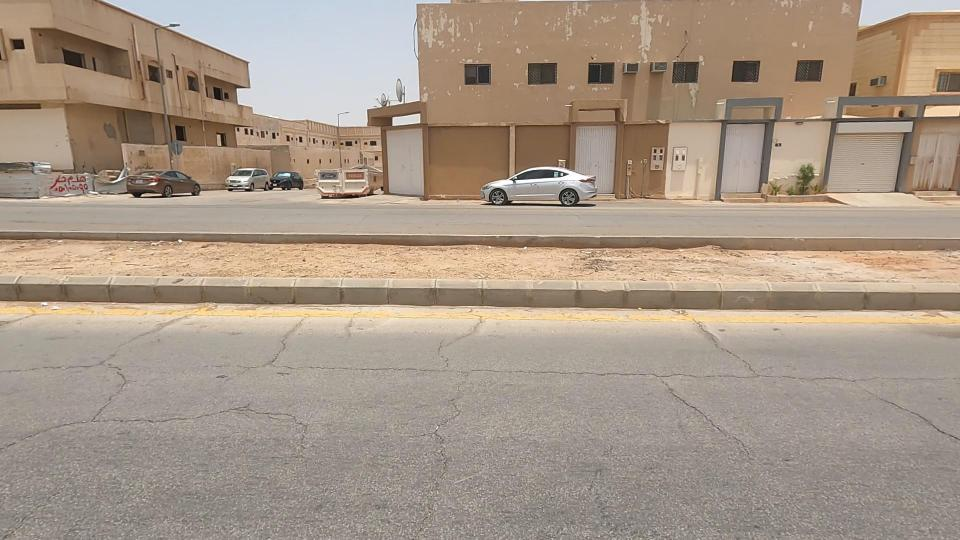CLUTTER_SIDEWALK: (461, 197, 928, 341), (0, 181, 393, 344), (254, 195, 592, 333)
